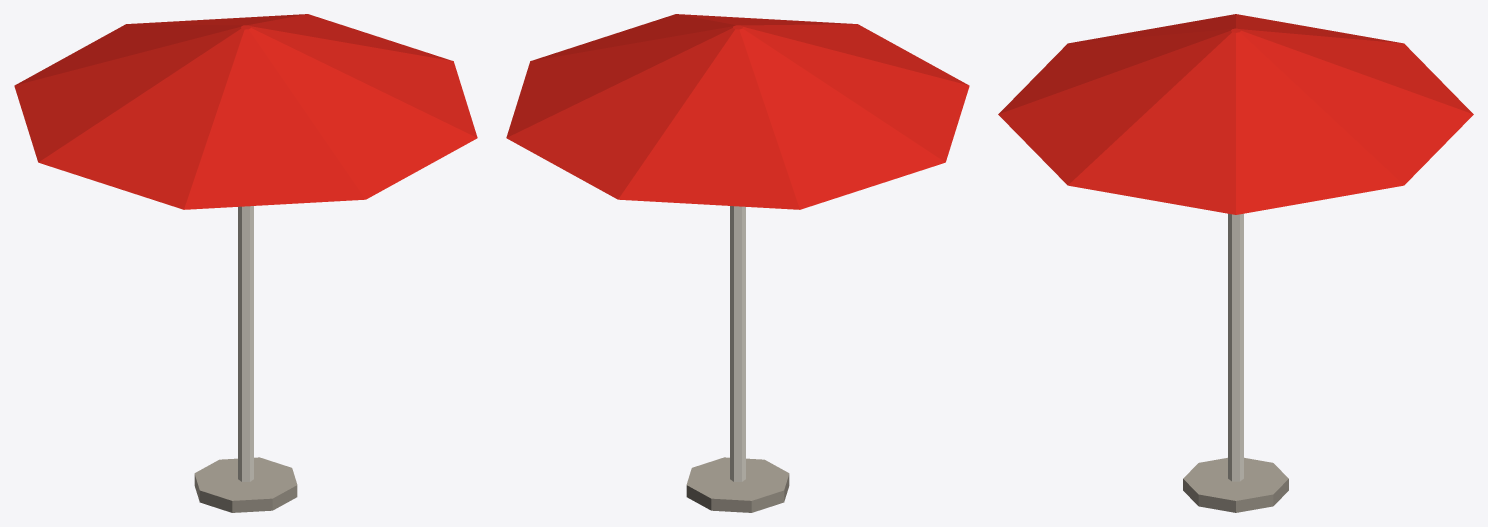
File: garden2_umbrella_parasol.glb
3 renders of one model, left to right at view 1: azimuth 30°, elevation 25°; view 2: azimuth 150°, elevation 25°; view 3: azimuth 270°, elevation 25°, orthographic.
Visible parts, largest first — view 1: umbrella_parasol; view 2: umbrella_parasol; view 3: umbrella_parasol.
Boxes of the visible parts, x1,y1,x2,y2 form: umbrella_parasol: [14, 14, 477, 512]; umbrella_parasol: [506, 14, 969, 512]; umbrella_parasol: [998, 14, 1473, 512].
Size of the model in its own units: 1.8 by 1.92 by 1.8.
